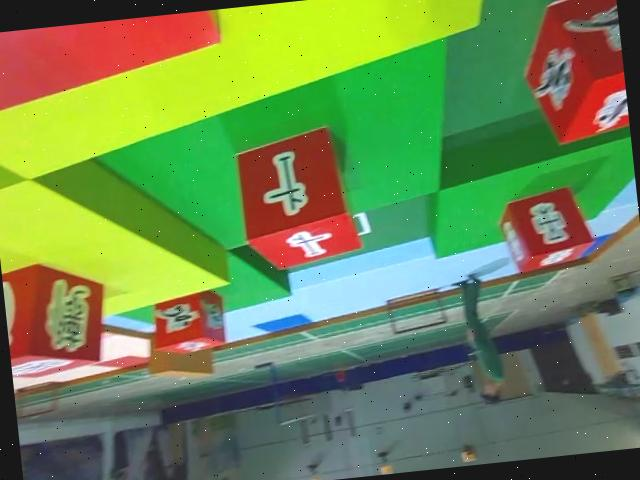R1: (507, 0, 631, 154), (143, 290, 232, 360)
R2 Fake: (1, 257, 110, 385)
R2 Real: (233, 126, 365, 279), (497, 184, 598, 279)
